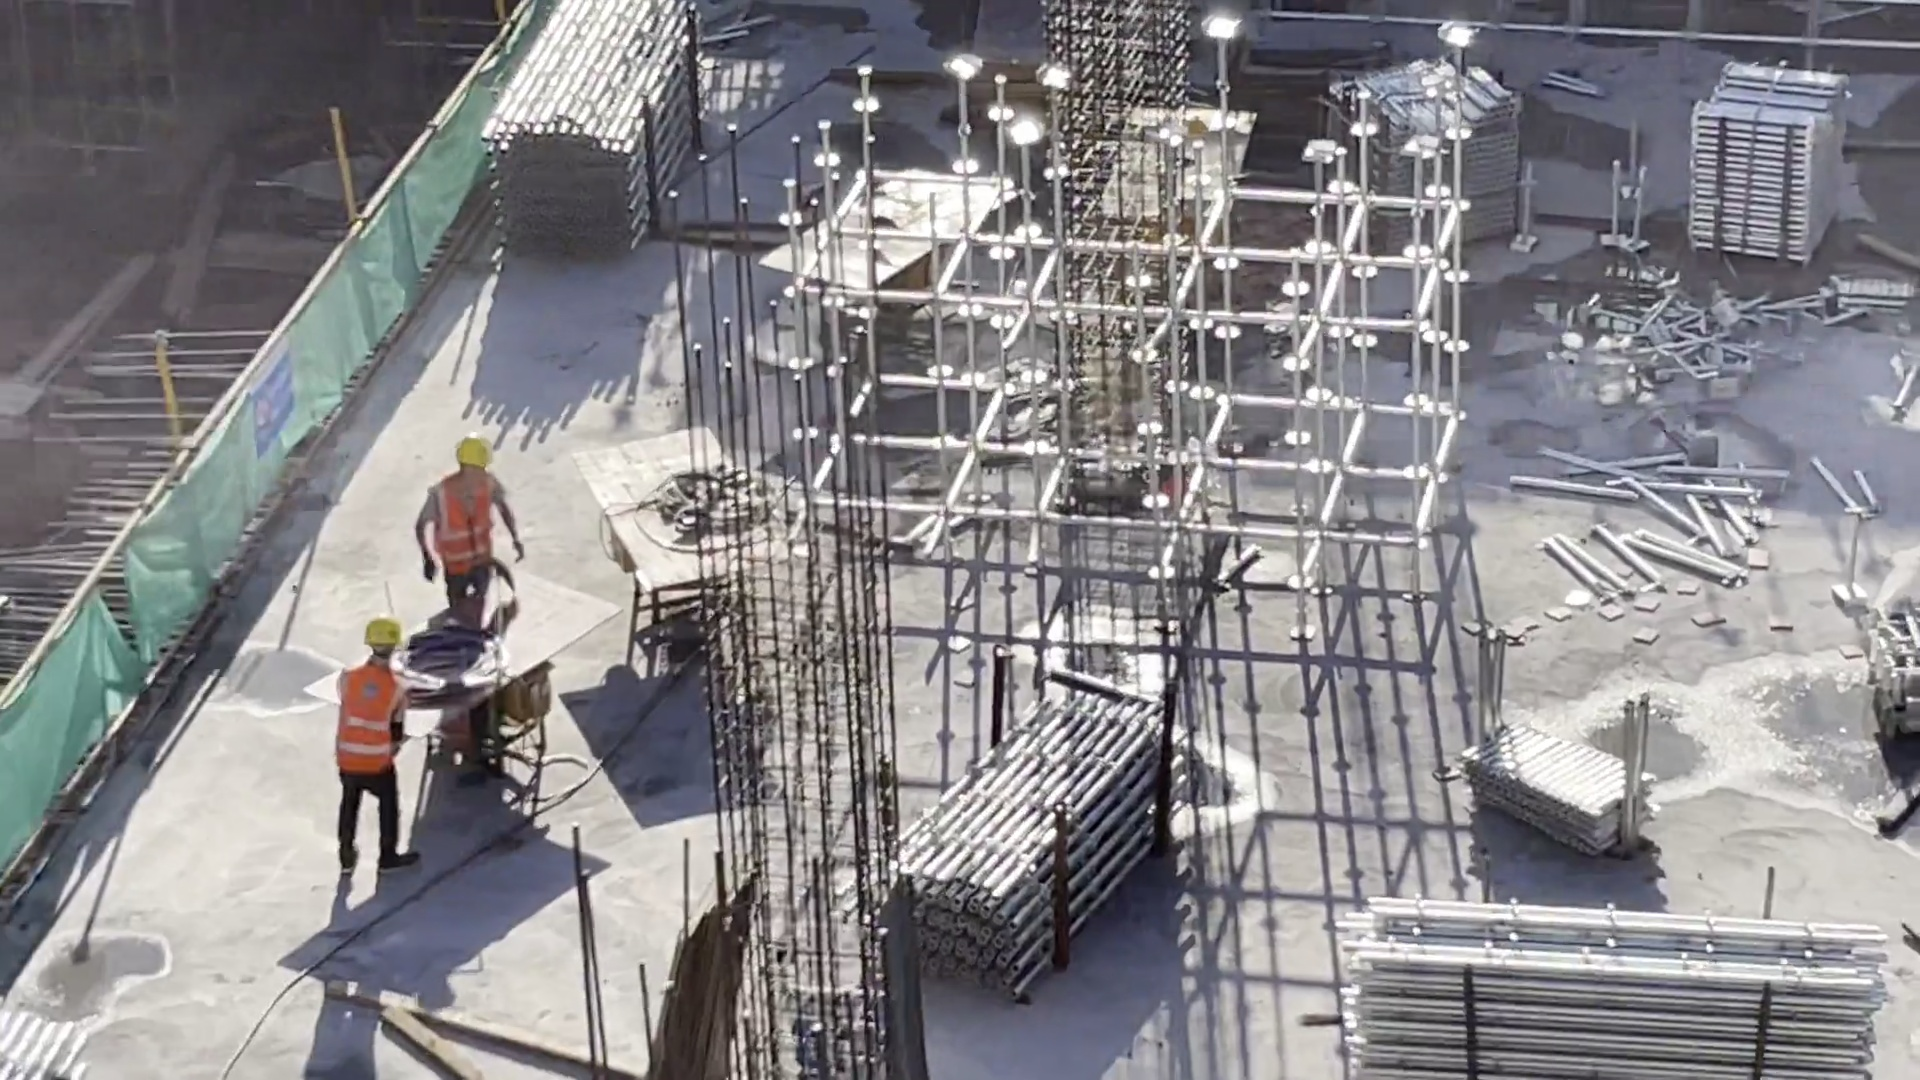board: (652, 859, 762, 1080)
cutter: (352, 569, 626, 808), (562, 428, 803, 652), (785, 164, 992, 349), (1075, 100, 1278, 276)
helmet: (445, 424, 506, 475), (362, 616, 412, 665)
person: (307, 604, 434, 878), (414, 432, 536, 611)
scaffold: (1319, 911, 1916, 1074), (876, 704, 1157, 1003), (476, 1, 744, 278), (1320, 69, 1553, 271), (1475, 689, 1700, 861), (1690, 52, 1829, 257), (1624, 290, 1805, 366), (1871, 605, 1920, 743)
slogan: (244, 341, 307, 469)
vest: (423, 476, 508, 580), (332, 667, 399, 793)
